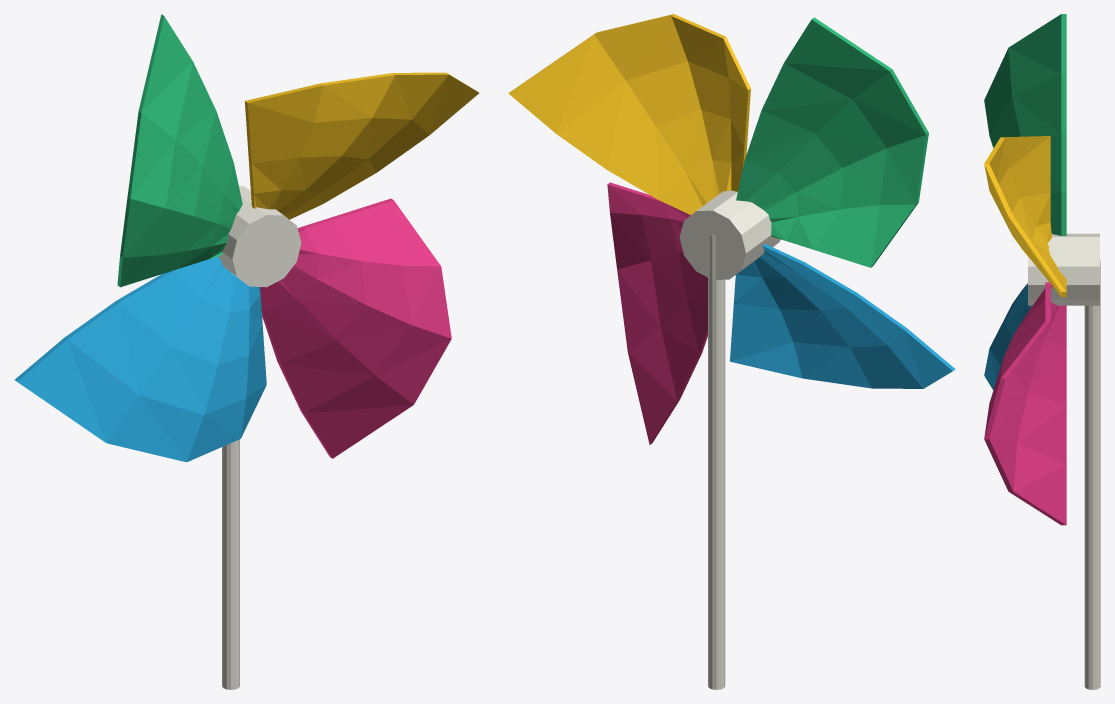
The model's file is NEW_RECOVERY_088_LOD2.fbx.
3 renders of one model, left to right at view 1: azimuth 30°, elevation 25°; view 2: azimuth 150°, elevation 25°; view 3: azimuth 270°, elevation 25°, orthographic. The views are drawn at different scales.
Parts seen in each view (by area): view 1: Pinwheel_static_whole; view 2: Pinwheel_static_whole; view 3: Pinwheel_static_whole.
Part boxes in pixels (x1,y1,x2,y2): Pinwheel_static_whole: (14, 14, 478, 689); Pinwheel_static_whole: (508, 14, 955, 689); Pinwheel_static_whole: (984, 14, 1100, 689).
Bounding box in the file's own units: 167 × 40.45 × 243.
